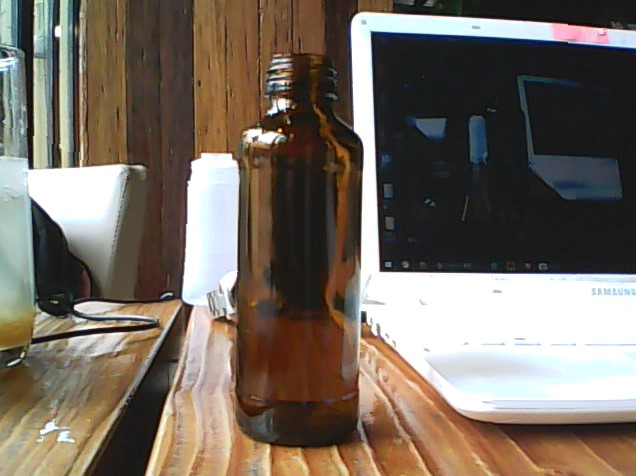Glass: (234, 50, 364, 454)
